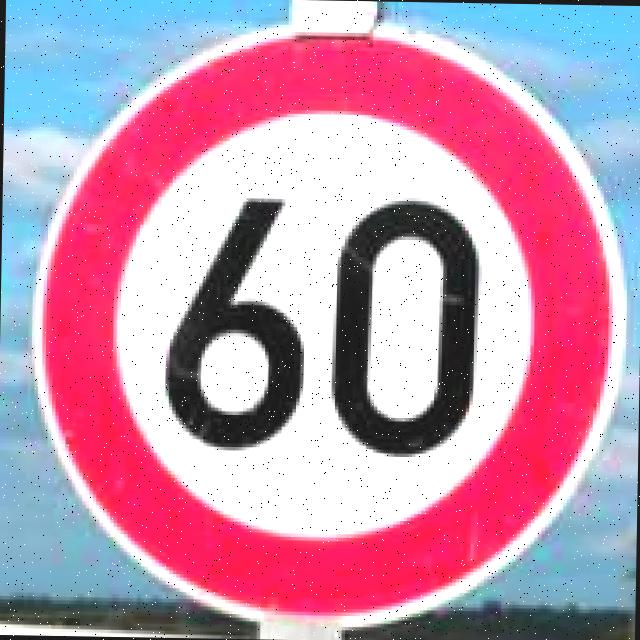Ograniczenie predkosci do 60: (26, 9, 614, 620)
